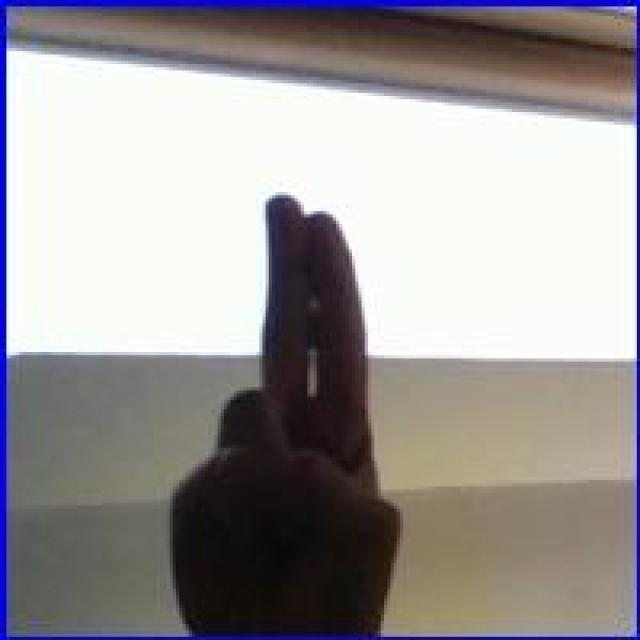U: (158, 186, 408, 627)
